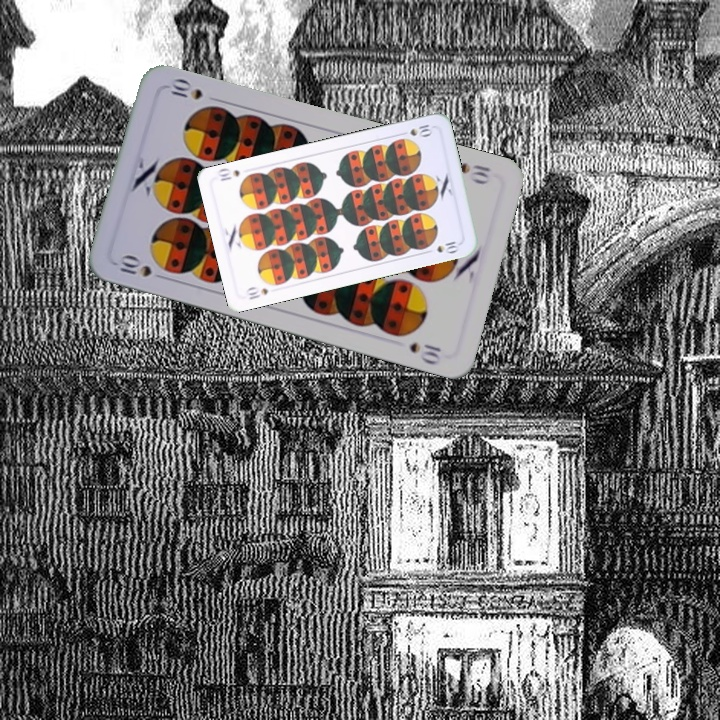S10: (116, 252, 170, 283), (455, 158, 494, 187), (395, 120, 435, 139), (242, 283, 271, 302)
